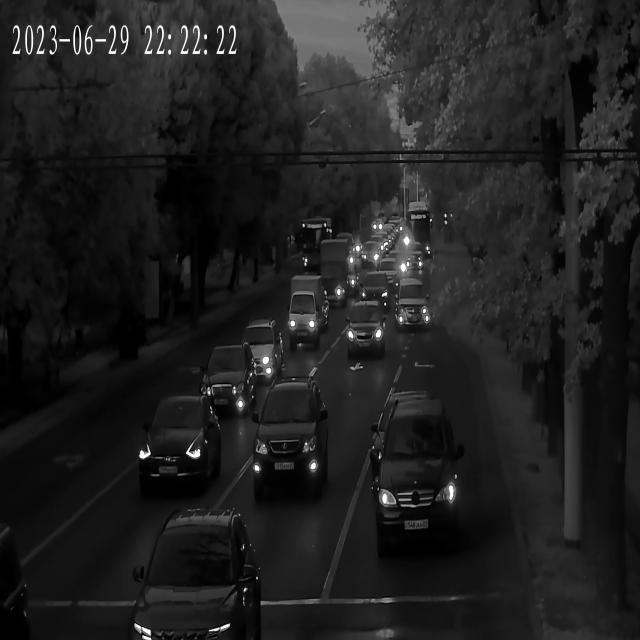Bus: (298, 218, 334, 270), (402, 205, 432, 258)
Car: (129, 514, 261, 639), (370, 399, 464, 531), (134, 395, 224, 495), (253, 379, 329, 496), (193, 345, 263, 414), (0, 508, 30, 636), (225, 324, 284, 388), (390, 367, 446, 431), (343, 301, 388, 355), (390, 281, 432, 331), (352, 272, 398, 309), (317, 266, 348, 309), (321, 236, 360, 270), (381, 253, 417, 275), (374, 258, 405, 278), (357, 242, 382, 266), (367, 238, 390, 256)
Truck: (284, 274, 329, 349)
